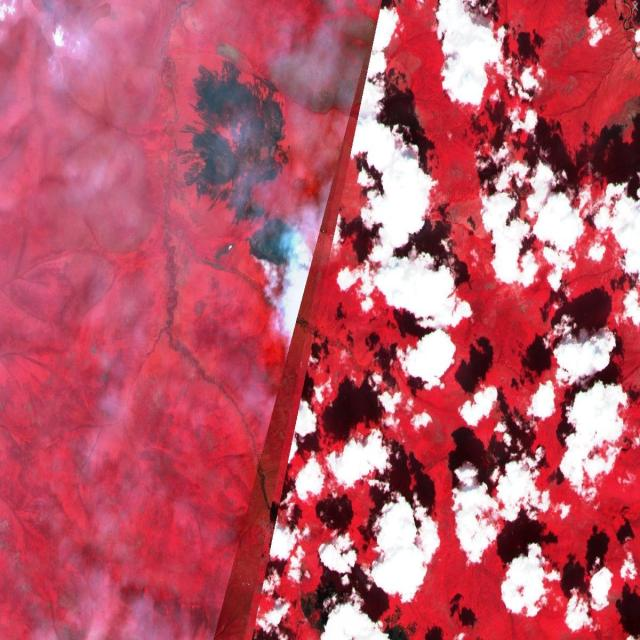fire: (244, 208, 307, 275)
